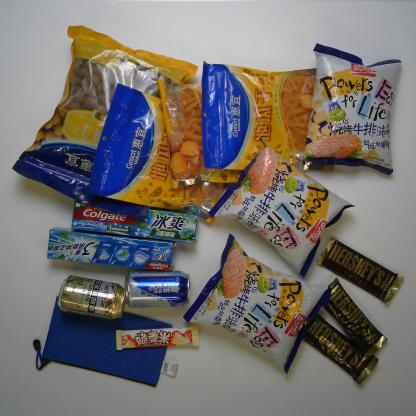Alcohol: (56, 274, 127, 320), (124, 268, 190, 309)
Chocolate: (316, 236, 406, 306), (302, 311, 380, 385), (321, 277, 390, 360), (115, 324, 200, 352)
Dried Food: (10, 24, 199, 221)
Dried Fruit: (86, 81, 226, 226), (200, 58, 336, 174), (152, 75, 244, 190)
Personal Hygiene: (46, 226, 176, 274), (71, 199, 200, 246)
Puffed Food: (206, 135, 357, 280), (182, 232, 333, 375), (301, 41, 403, 178)
Stationery: (32, 295, 180, 388)
